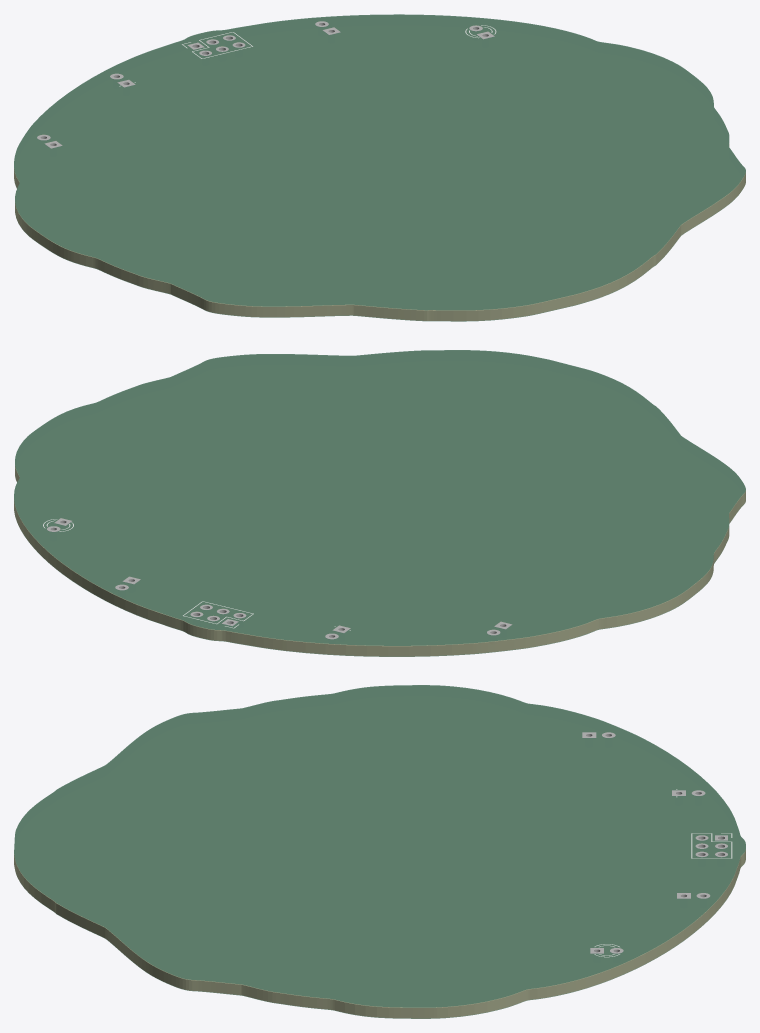
Rendered from bsides-orlando-2025-badge.glb.
The picture shows the model from 3 angles, top to bottom: view 1: azimuth 30°, elevation 25°; view 2: azimuth 150°, elevation 25°; view 3: azimuth 270°, elevation 25°; orthographic projection.
Parts seen in each view (by area): view 1: =>[0:1:1:8], =>[0:1:1:6], =>[0:1:1:2]; view 2: =>[0:1:1:8], =>[0:1:1:6], =>[0:1:1:2]; view 3: =>[0:1:1:8], =>[0:1:1:6], =>[0:1:1:2].
Part boxes in pixels (<box>): =>[0:1:1:8]: <box>14,15,745,321</box>; =>[0:1:1:6]: <box>14,14,745,321</box>; =>[0:1:1:2]: <box>37,21,494,148</box>; =>[0:1:1:8]: <box>14,351,745,656</box>; =>[0:1:1:6]: <box>14,350,745,656</box>; =>[0:1:1:2]: <box>47,518,511,639</box>; =>[0:1:1:8]: <box>14,686,745,1018</box>; =>[0:1:1:6]: <box>14,685,745,1018</box>; =>[0:1:1:2]: <box>582,732,727,953</box>.
Bounding box in the file's own units: 0.0993 × 0.00166 × 0.0952.
Materials: 4 (4 with a texture image).
